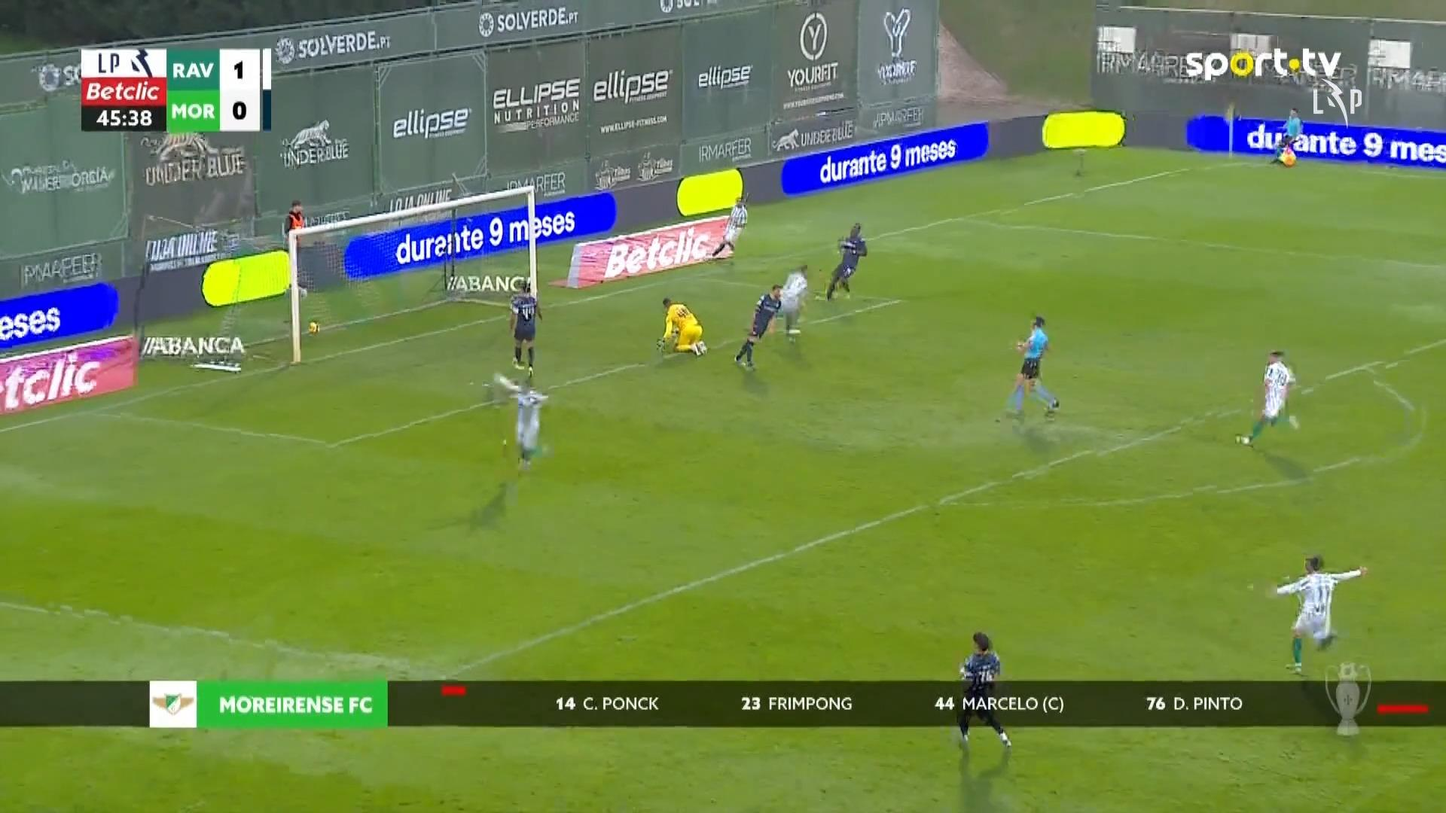ball: (307, 320, 318, 333)
goalkeeper: (654, 296, 707, 358)
player: (1273, 553, 1368, 674), (956, 630, 1011, 748), (1234, 349, 1299, 448), (493, 371, 549, 471), (733, 283, 782, 370), (507, 279, 542, 379), (824, 221, 867, 301), (707, 193, 749, 261), (778, 263, 808, 343)
referee: (1003, 315, 1060, 420), (1270, 106, 1303, 165)
